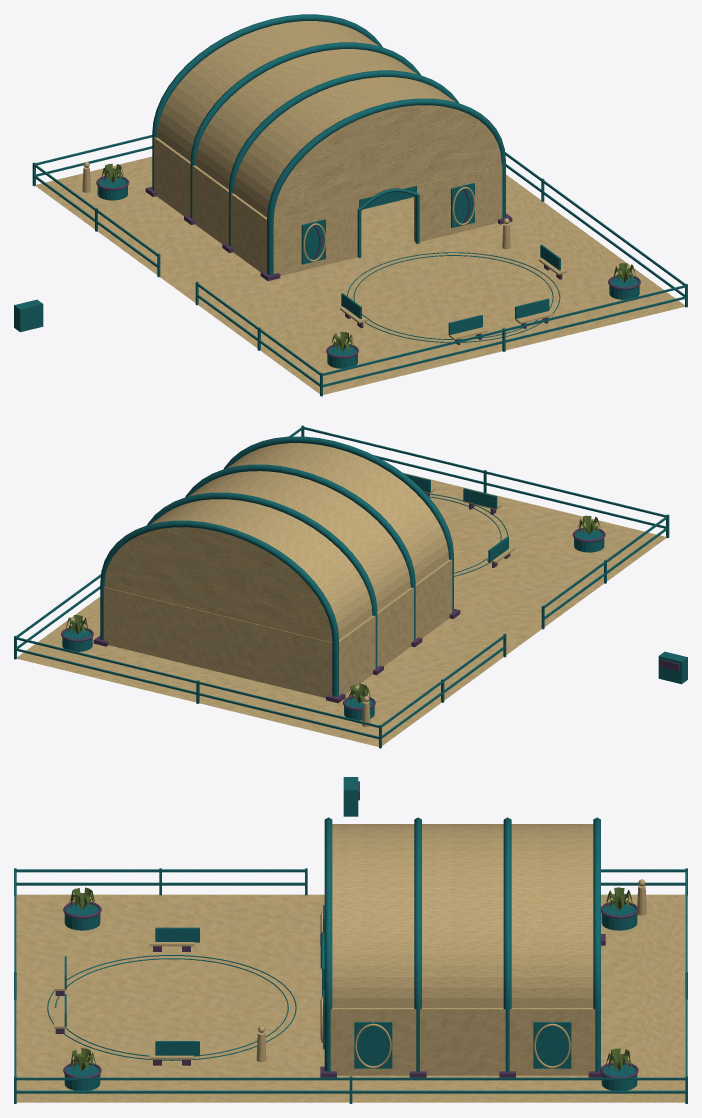
File: commons_painted.glb
3 renders of one model, top to bottom at view 1: azimuth 30°, elevation 25°; view 2: azimuth 150°, elevation 25°; view 3: azimuth 270°, elevation 25°, orthographic. The views are drawn at different scales.
Parts seen in each view (by area): view 1: Commons painted kit; view 2: Commons painted kit; view 3: Commons painted kit.
Boxes of the visible parts, x1=… form: Commons painted kit: x1=14, y1=14, x2=687, y2=396; Commons painted kit: x1=14, y1=425, x2=687, y2=748; Commons painted kit: x1=14, y1=777, x2=687, y2=1103.
Size of the model in its own units: 31.76 by 8.42 by 30.12.
Materials: 1 (1 with a texture image).
